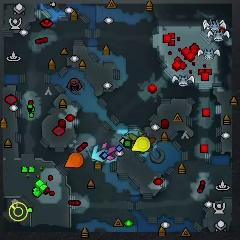Other: (9, 202, 28, 222)
p4: (131, 137, 149, 151)
p5: (65, 152, 84, 168)
x1: (101, 143, 117, 160)
x2: (129, 131, 143, 140)
x3: (91, 145, 107, 162)
x5: (141, 133, 155, 151)
